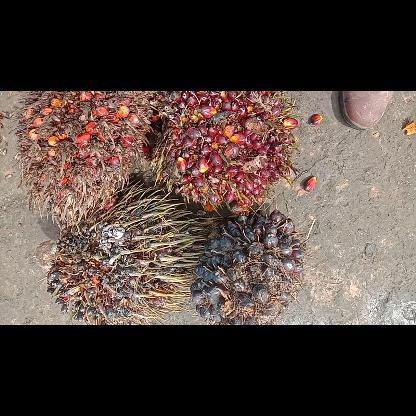TBS abnormal: (34, 182, 204, 324)
TBS masak: (151, 91, 297, 211)
TBS mentah: (192, 212, 304, 324)
Terlalu masak: (14, 91, 158, 227)
